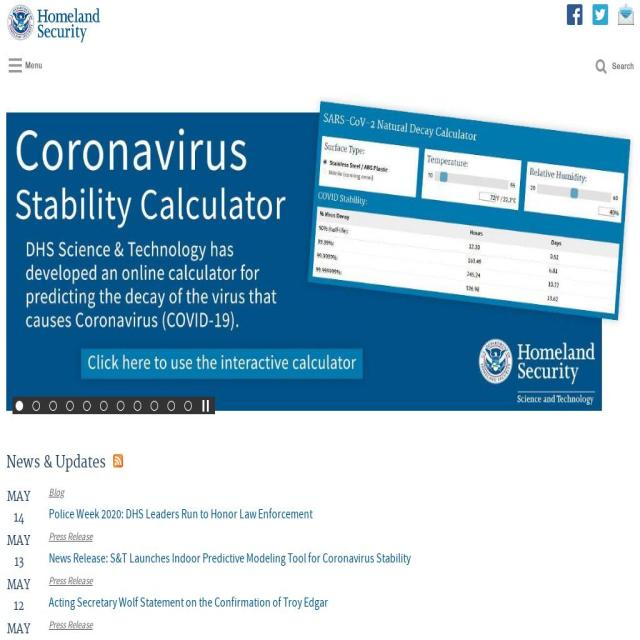button: (6, 4, 100, 46), (618, 4, 634, 30), (567, 4, 582, 30), (593, 4, 608, 30), (12, 396, 30, 414), (130, 396, 148, 414), (164, 396, 182, 414), (29, 396, 46, 414), (46, 396, 63, 414), (63, 396, 80, 414), (80, 396, 97, 414), (97, 396, 114, 414), (181, 396, 198, 414), (198, 396, 215, 414), (114, 396, 130, 414), (148, 396, 164, 414)
field: (592, 54, 634, 79)
heading: (49, 549, 411, 568), (49, 594, 329, 613), (49, 505, 313, 523), (6, 451, 106, 473), (6, 486, 32, 528), (6, 530, 32, 572), (6, 575, 32, 617), (6, 619, 32, 640), (49, 638, 229, 640), (113, 453, 123, 468)
image: (6, 97, 634, 411), (38, 4, 100, 46), (7, 4, 38, 46), (618, 4, 634, 25), (567, 4, 582, 25), (593, 4, 608, 25)
link: (49, 618, 93, 634), (49, 529, 93, 544), (49, 574, 93, 588), (49, 485, 64, 500)
text: (6, 51, 47, 84)
